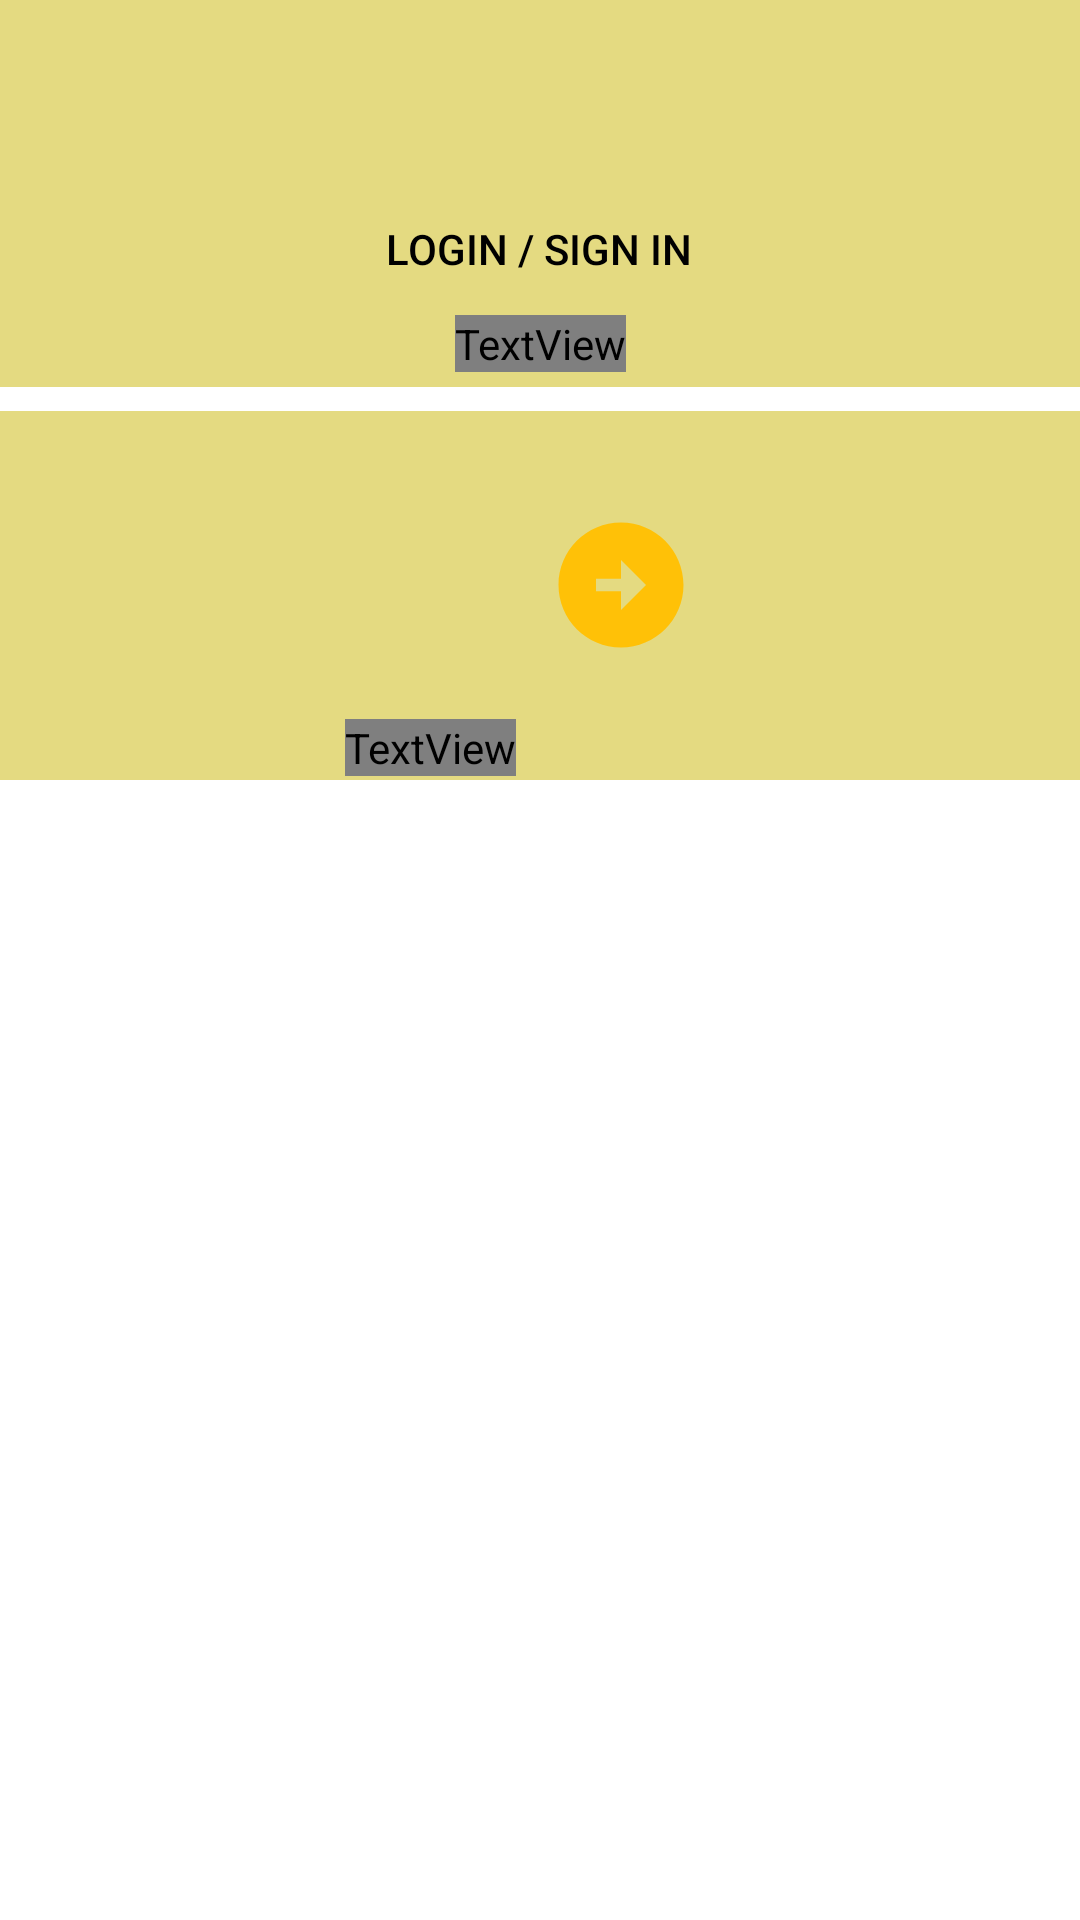

Where icons sit on this 1080px×1920px app screen, as bbox(x1, y1, x2, y2):
arrow right: bbox(558, 522, 684, 648)
